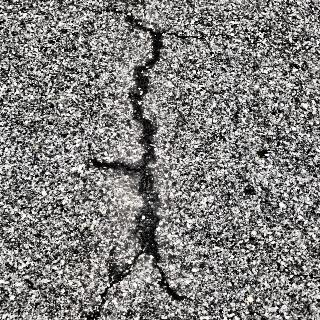crack: (82, 6, 206, 316)
